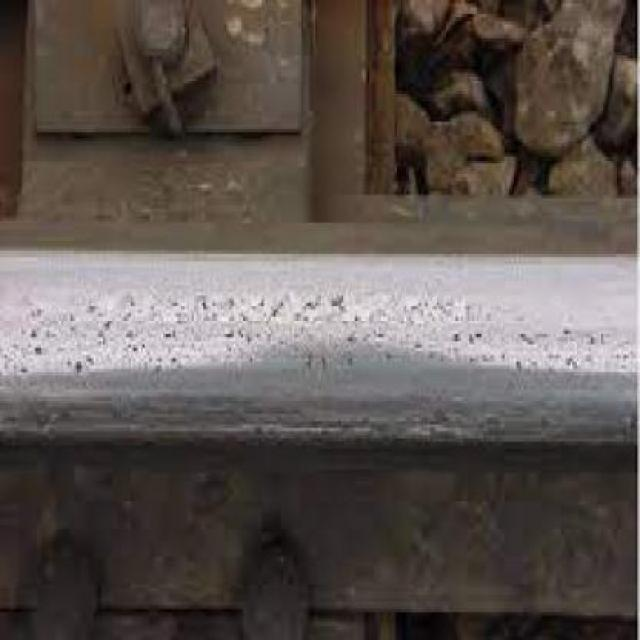defective: (0, 167, 640, 571)
